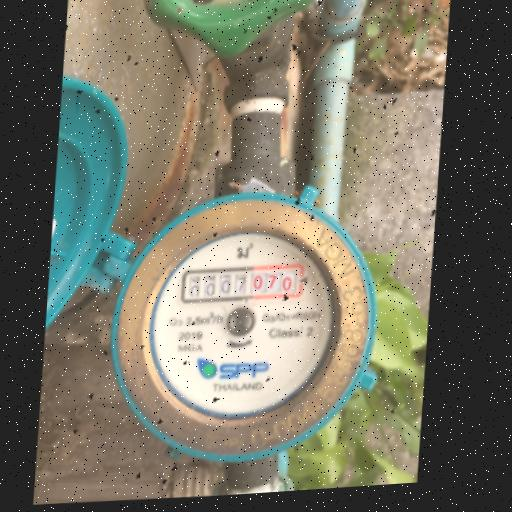0: (281, 273, 294, 293), (218, 275, 230, 296), (251, 274, 263, 295), (188, 277, 200, 297), (205, 276, 216, 297)
7: (266, 273, 278, 293), (235, 275, 246, 295)
border_water_meter_number: (179, 262, 305, 306)
